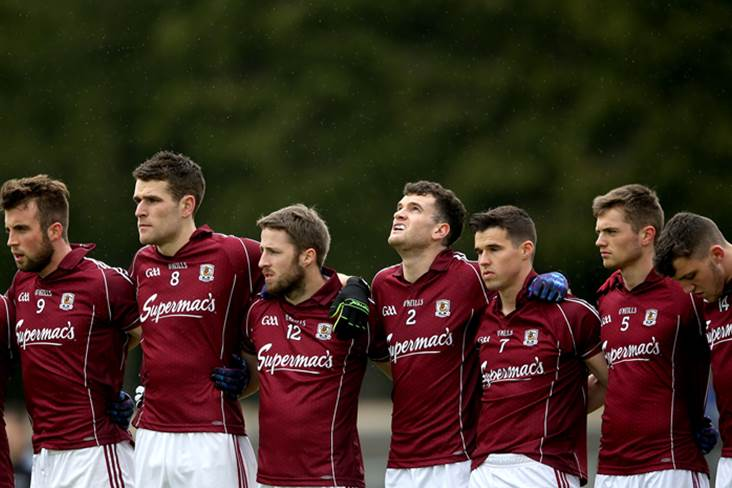player: (5, 164, 141, 469), (579, 180, 709, 474), (118, 154, 245, 453), (377, 184, 506, 473), (473, 205, 592, 458), (249, 209, 366, 461)
